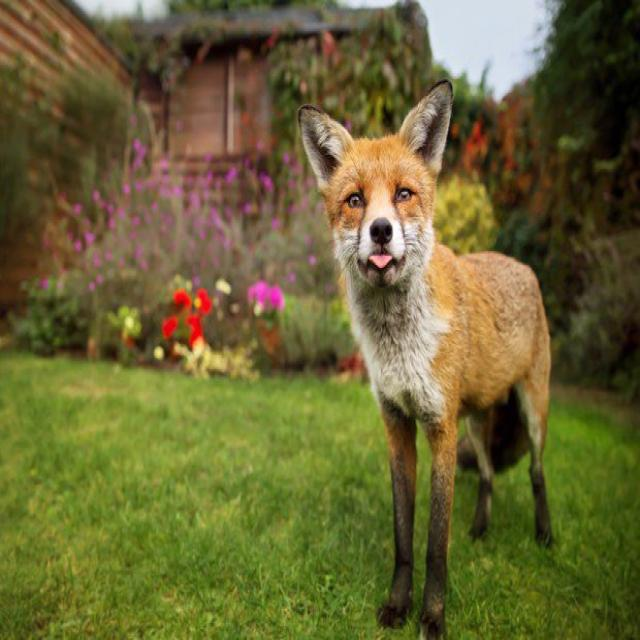fox: (296, 77, 554, 638)
